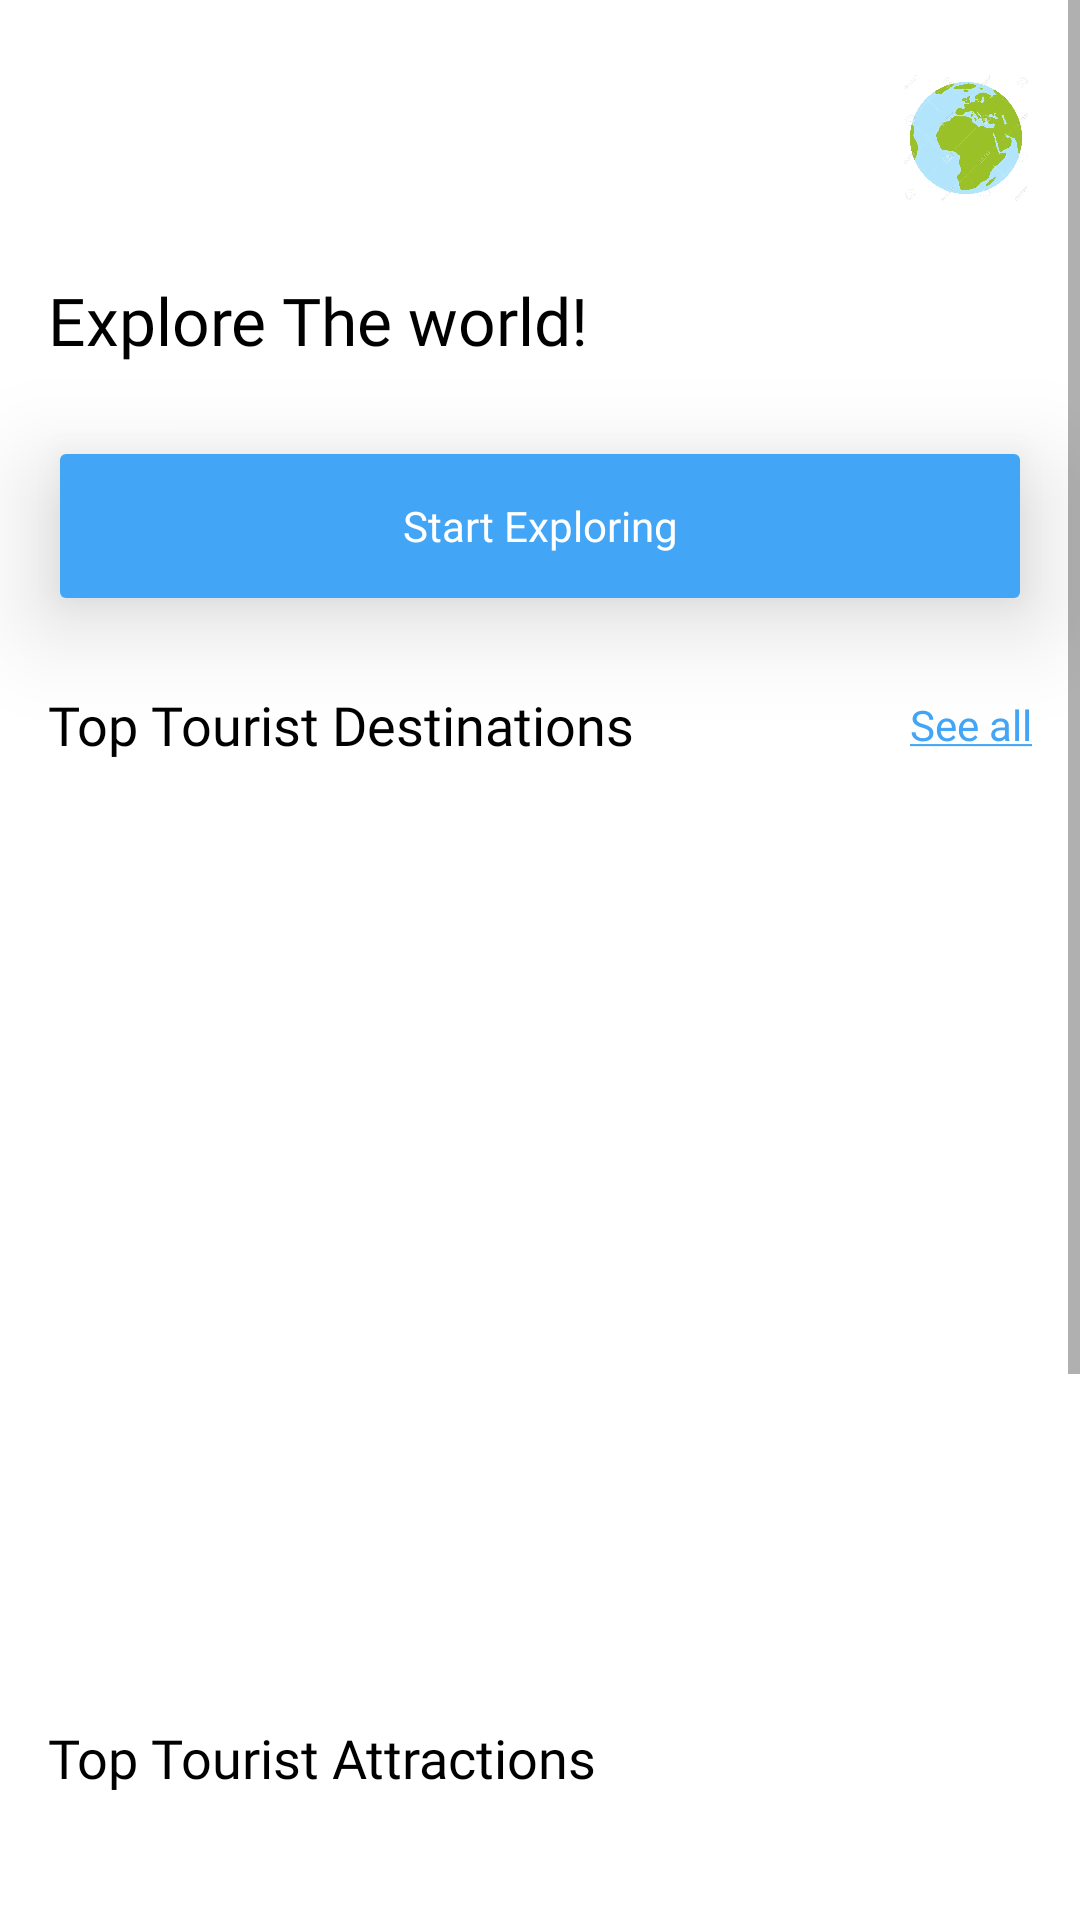

Screen size 1080w x 1920h. Icon name, then its center in pixels as (x,y):
world: (968,134)
